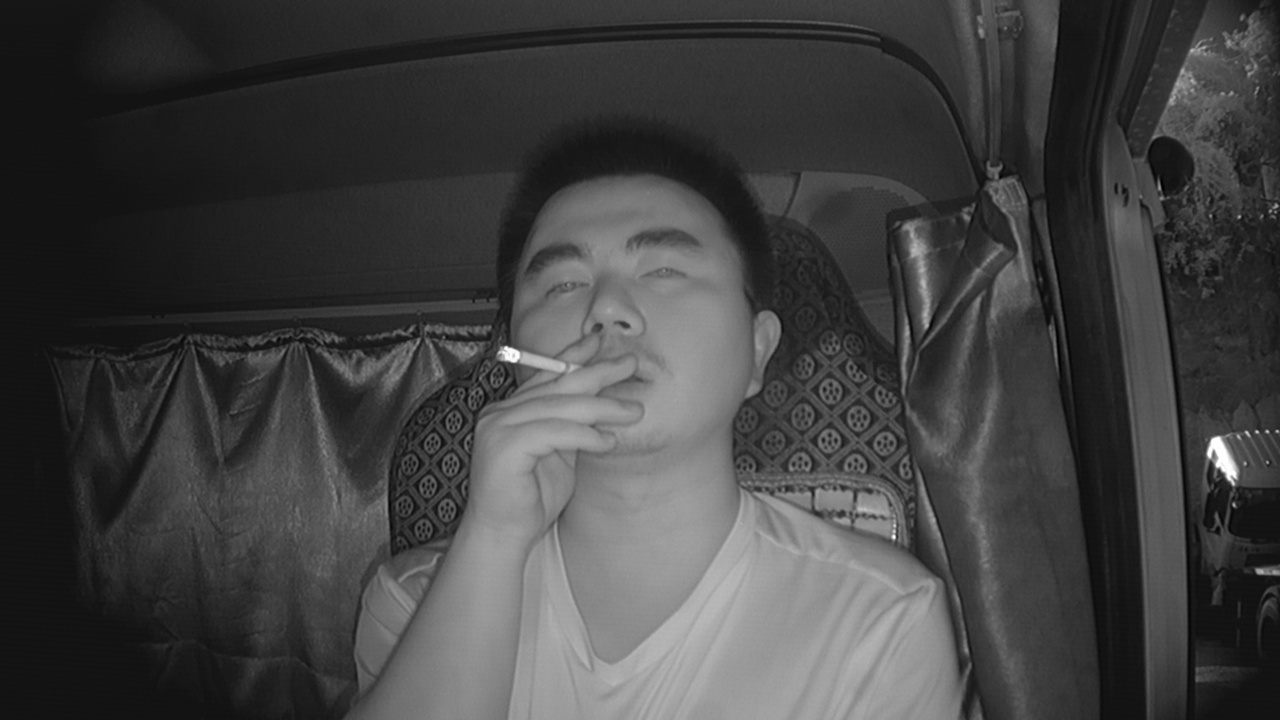hand: (467, 341, 645, 534)
